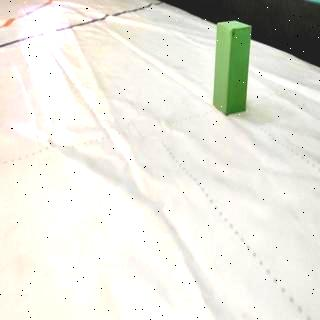greenbox: (212, 19, 252, 118)
